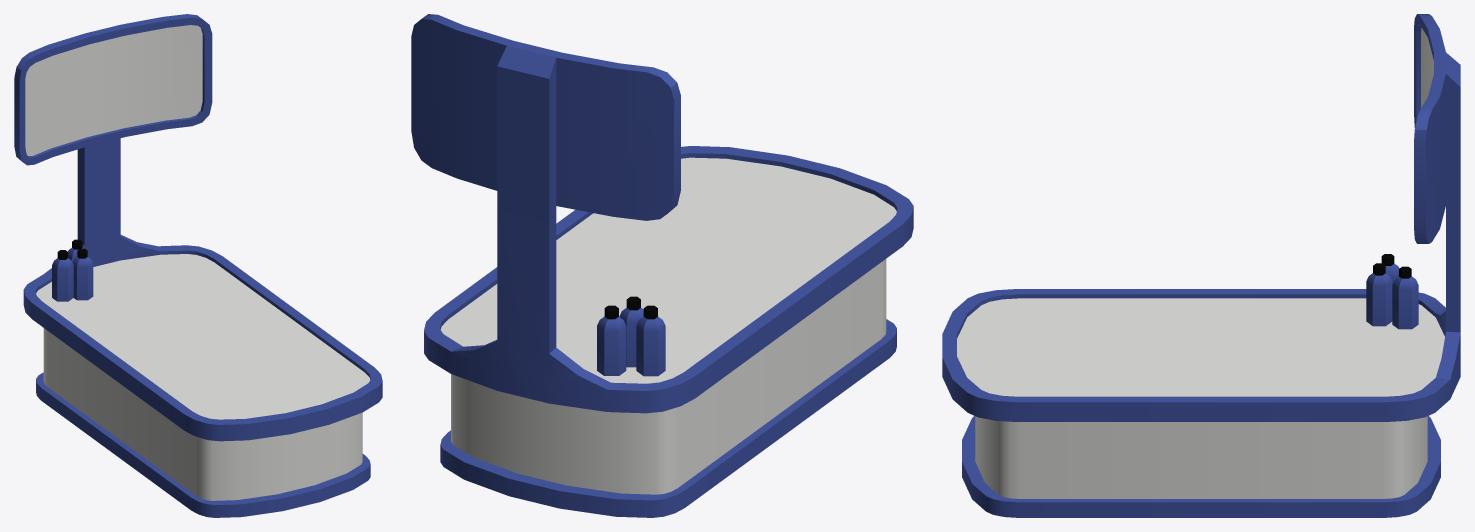
File: SM_Props_Ear_Cleaner.fbx
3 renders of one model, left to right at view 1: azimuth 30°, elevation 25°; view 2: azimuth 150°, elevation 25°; view 3: azimuth 270°, elevation 25°, orthographic. The views are drawn at different scales.
Visible parts, largest first — view 1: SM_Props_Ear_Cleaner; view 2: SM_Props_Ear_Cleaner; view 3: SM_Props_Ear_Cleaner.
Boxes of the visible parts, box(x1,y1,x2,y2) form: SM_Props_Ear_Cleaner: box(14, 14, 382, 517); SM_Props_Ear_Cleaner: box(411, 14, 913, 517); SM_Props_Ear_Cleaner: box(942, 14, 1460, 517).
Size of the model in its own units: 0.968 by 1.59 by 1.85.
